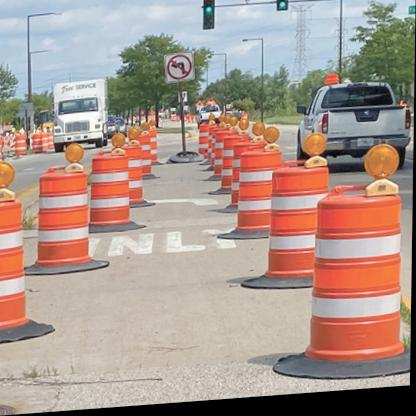obstacle: (302, 188, 409, 373), (32, 171, 95, 269), (264, 171, 316, 283), (89, 150, 138, 229)
